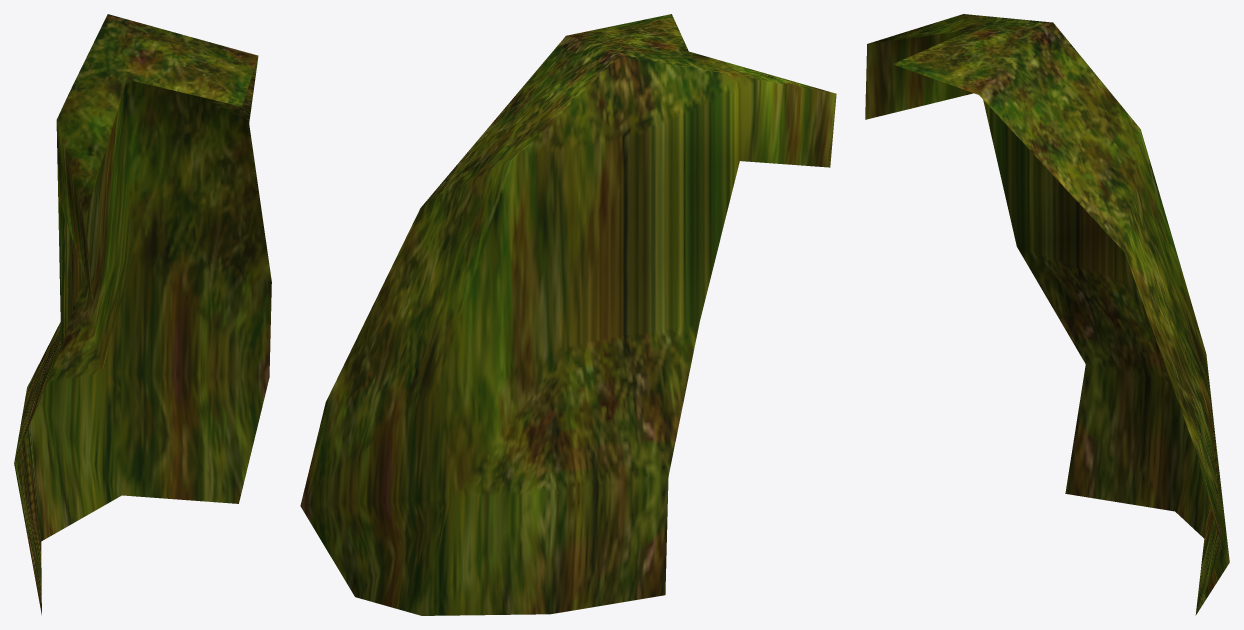
The model's file is TROLLHOLE02_RM_PSURF194.fbx.
3 renders of one model, left to right at view 1: azimuth 30°, elevation 25°; view 2: azimuth 150°, elevation 25°; view 3: azimuth 270°, elevation 25°, orthographic. The views are drawn at different scales.
Visible parts, largest first — view 1: TROLLHOLE02_RM_PSURF194; view 2: TROLLHOLE02_RM_PSURF194; view 3: TROLLHOLE02_RM_PSURF194.
Boxes of the visible parts, bbox=[...] form: TROLLHOLE02_RM_PSURF194: bbox=[14, 14, 271, 614]; TROLLHOLE02_RM_PSURF194: bbox=[300, 14, 836, 615]; TROLLHOLE02_RM_PSURF194: bbox=[865, 14, 1229, 615].
Size of the model in its own units: 32992 by 48037 by 31420.
1 material, 1 textured.
